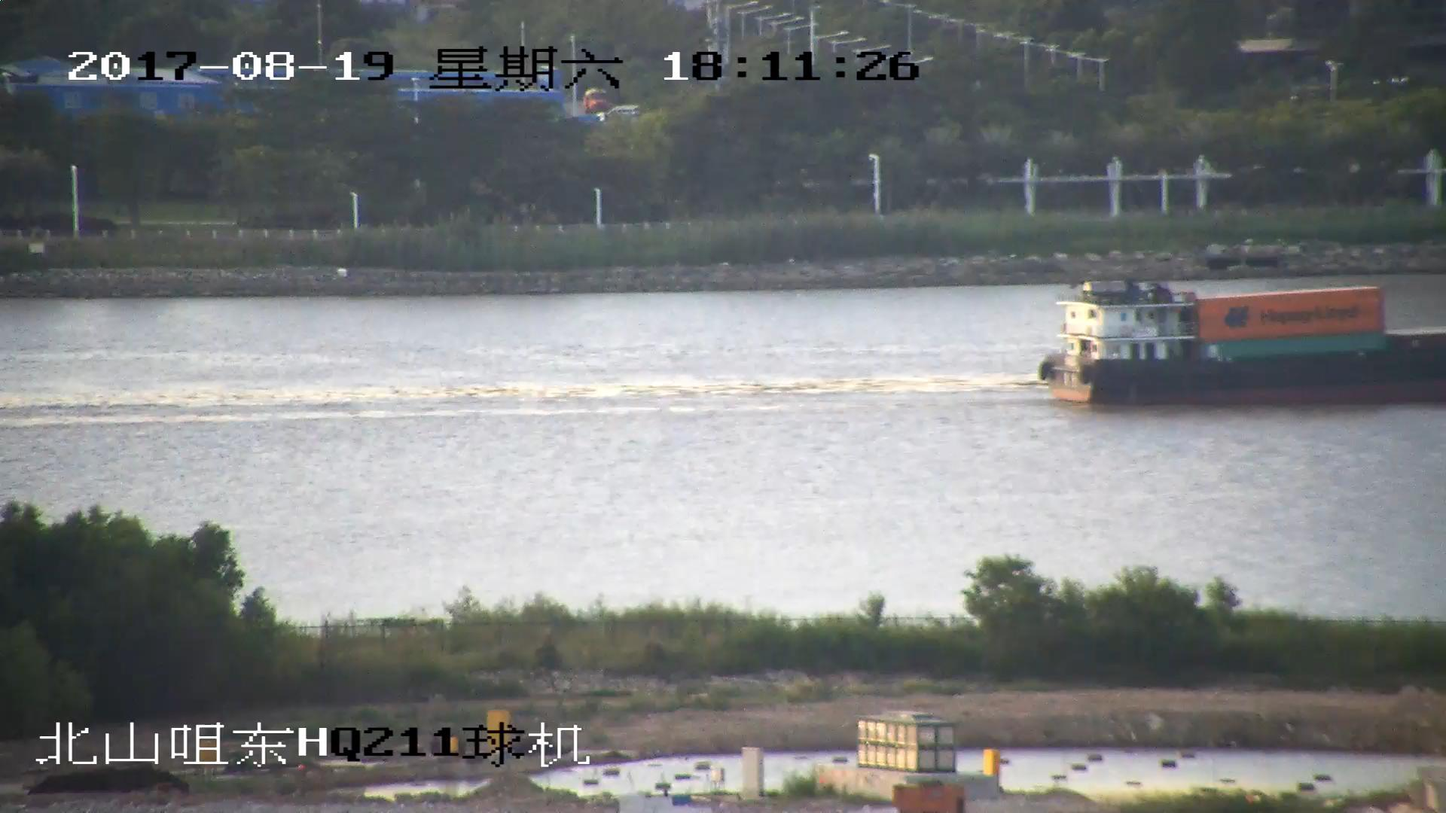container ship: (1034, 283, 1445, 404)
